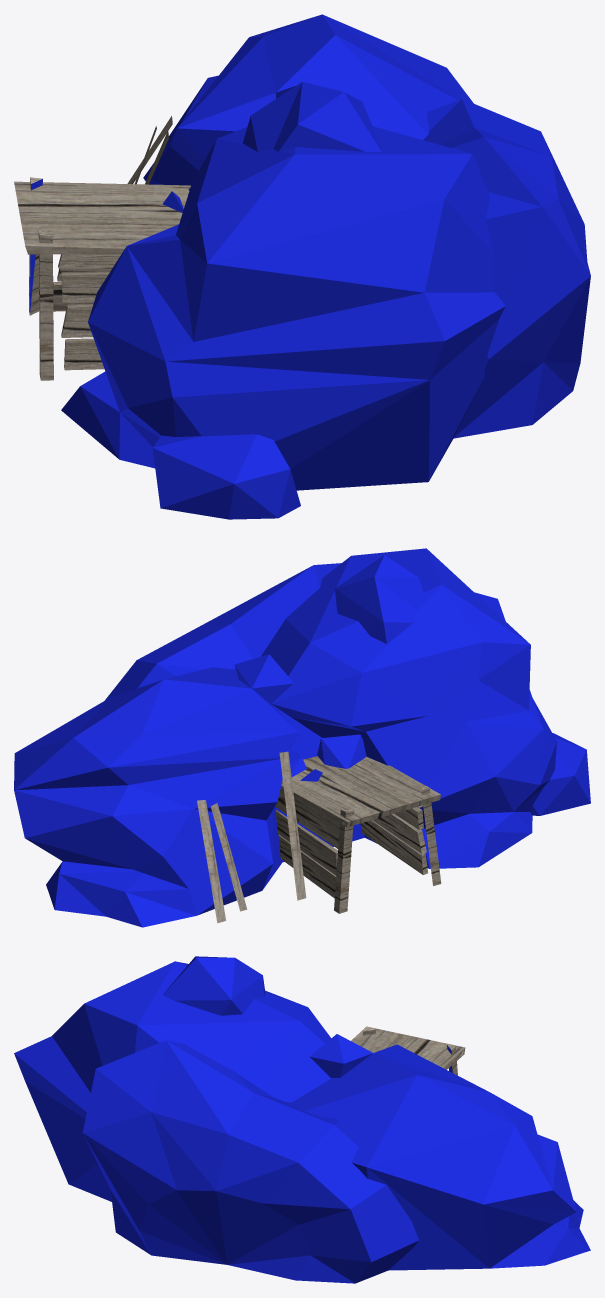
File: Kamenolovnia.fbx
The picture shows the model from 3 angles, top to bottom: view 1: azimuth 30°, elevation 25°; view 2: azimuth 150°, elevation 25°; view 3: azimuth 270°, elevation 25°; orthographic projection. The views are drawn at different scales.
Parts seen in each view (by area): view 1: mine camp; view 2: mine camp; view 3: mine camp.
Part boxes in pixels (x1,y1,x2,y2): mine camp: (14,14,590,519); mine camp: (14,548,590,927); mine camp: (14,956,590,1283).
Bounding box in the file's own units: 308 × 179 × 403.
